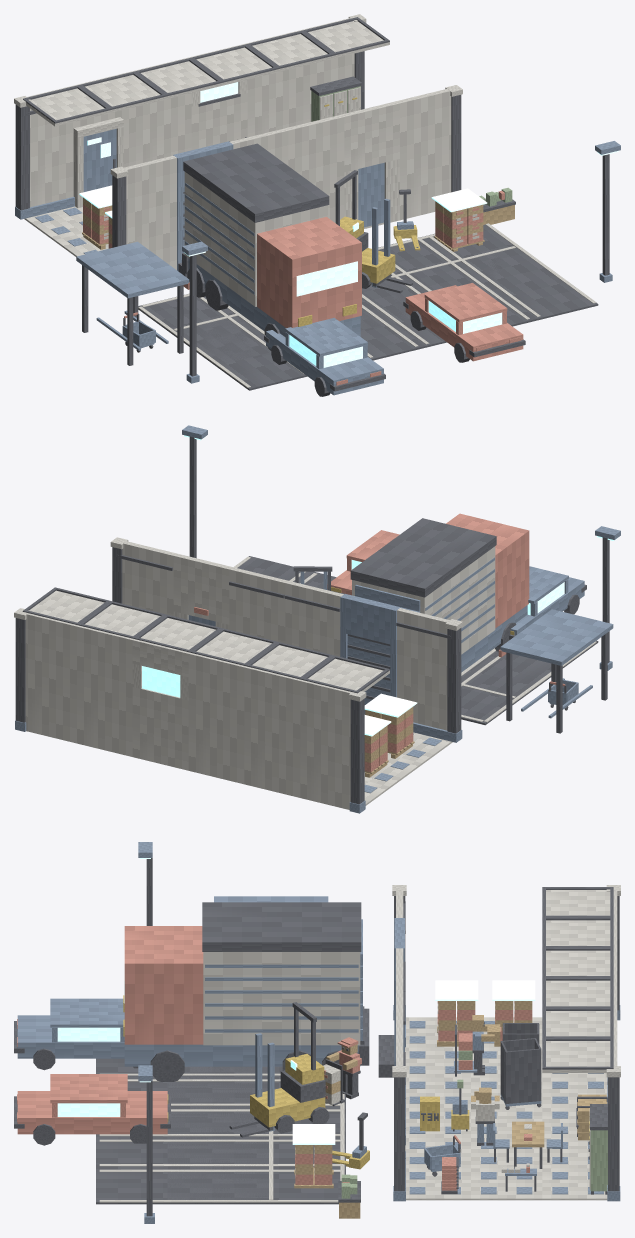
Rendered from pixel-modern-supermarket-goods-in-yard-3095a519__28048.glb.
3 renders of one model, top to bottom at view 1: azimuth 30°, elevation 25°; view 2: azimuth 150°, elevation 25°; view 3: azimuth 270°, elevation 25°, orthographic. The views are drawn at different scales.
Parts seen in each view (by area): view 1: 066-delivery-lorry/1, 066-delivery-lorry/5, 029-wall-bay-plain/0, 066-delivery-lorry/4, 024-wall-bay-plain/0, 028-back-of-house-door-bay/0, 071-customer-car-red/0, 070-customer-car/0, 065-car-park-bay-tile/0, 075-trolley-shelter/1, 027-wall-bay-plain/0, 054-car-park-bay-tile/0 (+55 smaller); view 2: 019-wall-bay-plain/0, 020-wall-bay-plain/0, 022-wall-bay-plain/0, 066-delivery-lorry/5, 023-wall-bay-plain/0, 018-wall-bay-plain/0, 021-wall-bay-window/0, 024-wall-bay-plain/0, 075-trolley-shelter/1, 066-delivery-lorry/4, 066-delivery-lorry/1, 027-wall-bay-plain/0 (+38 smaller); view 3: 066-delivery-lorry/4, 066-delivery-lorry/1, 066-delivery-lorry/5, 066-delivery-lorry/0, 071-customer-car-red/0, 064-car-park-bay-tile/0, 070-customer-car/0, 065-car-park-bay-tile/0, 060-car-park-bay-tile/0, 062-car-park-bay-tile/0, 063-car-park-bay-tile/0, 045-roll-cage-empty/0 (+67 smaller).
Part boxes in pixels (x1,y1,x2,y2): 066-delivery-lorry/1: [257, 217, 361, 328]; 066-delivery-lorry/5: [182, 143, 329, 274]; 029-wall-bay-plain/0: [397, 89, 451, 219]; 066-delivery-lorry/4: [184, 172, 327, 306]; 024-wall-bay-plain/0: [124, 155, 176, 269]; 028-back-of-house-door-bay/0: [341, 101, 399, 222]; 071-customer-car-red/0: [405, 283, 523, 361]; 070-customer-car/0: [266, 317, 383, 395]; 065-car-park-bay-tile/0: [483, 246, 598, 322]; 075-trolley-shelter/1: [76, 241, 189, 350]; 027-wall-bay-plain/0: [285, 114, 344, 222]; 054-car-park-bay-tile/0: [138, 294, 271, 366]; 019-wall-bay-plain/0: [244, 666, 301, 797]; 020-wall-bay-plain/0: [188, 652, 245, 783]; 022-wall-bay-plain/0: [77, 625, 133, 756]; 066-delivery-lorry/5: [350, 518, 496, 597]; 023-wall-bay-plain/0: [25, 613, 78, 743]; 018-wall-bay-plain/0: [300, 680, 351, 809]; 021-wall-bay-window/0: [132, 639, 189, 770]; 024-wall-bay-plain/0: [397, 608, 449, 730]; 075-trolley-shelter/1: [500, 609, 613, 718]; 066-delivery-lorry/4: [352, 546, 495, 654]; 066-delivery-lorry/1: [446, 513, 529, 628]; 027-wall-bay-plain/0: [229, 567, 287, 643]; 066-delivery-lorry/4: [203, 952, 360, 1045]; 066-delivery-lorry/1: [124, 926, 203, 1044]; 066-delivery-lorry/5: [202, 902, 369, 1065]; 066-delivery-lorry/0: [124, 964, 360, 1066]; 071-customer-car-red/0: [17, 1074, 167, 1134]; 064-car-park-bay-tile/0: [167, 1165, 345, 1204]; 070-customer-car/0: [17, 998, 124, 1058]; 065-car-park-bay-tile/0: [96, 1164, 274, 1204]; 060-car-park-bay-tile/0: [167, 1104, 345, 1141]; 062-car-park-bay-tile/0: [167, 1142, 345, 1163]; 063-car-park-bay-tile/0: [96, 1142, 274, 1164]; 045-roll-cage-empty/0: [500, 1038, 541, 1109].
Size of the model in its own units: 16.45 by 4.66 by 17.
Materials: 8 (8 with a texture image).
